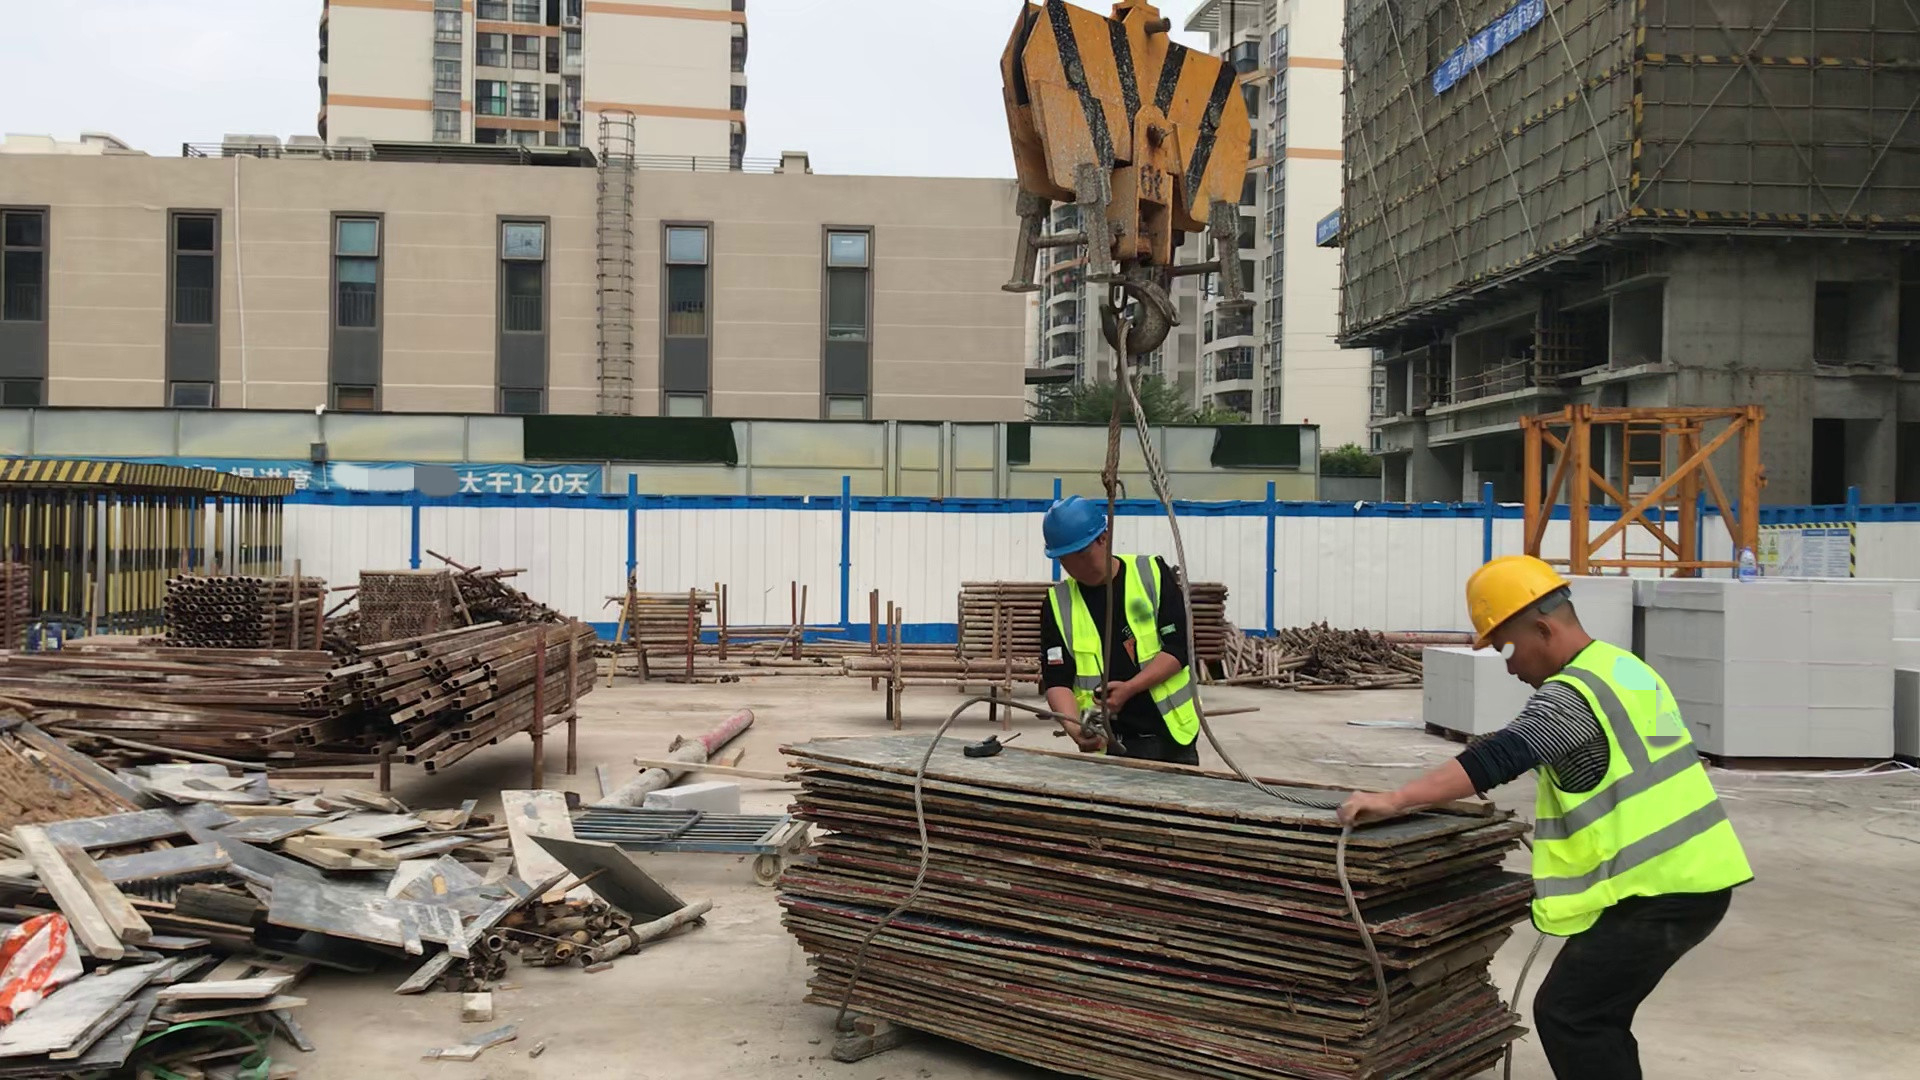board: (774, 725, 1535, 1080)
brick: (1425, 572, 1920, 761)
helmet: (1461, 557, 1573, 645), (1043, 499, 1111, 553)
hook: (995, 2, 1248, 361)
person: (1333, 554, 1757, 1080), (1029, 495, 1214, 765)
scaffold: (166, 568, 443, 648), (961, 576, 1036, 663), (625, 586, 706, 655)
slogan: (182, 465, 609, 502)
vest: (1506, 638, 1755, 938), (1041, 554, 1199, 743)
